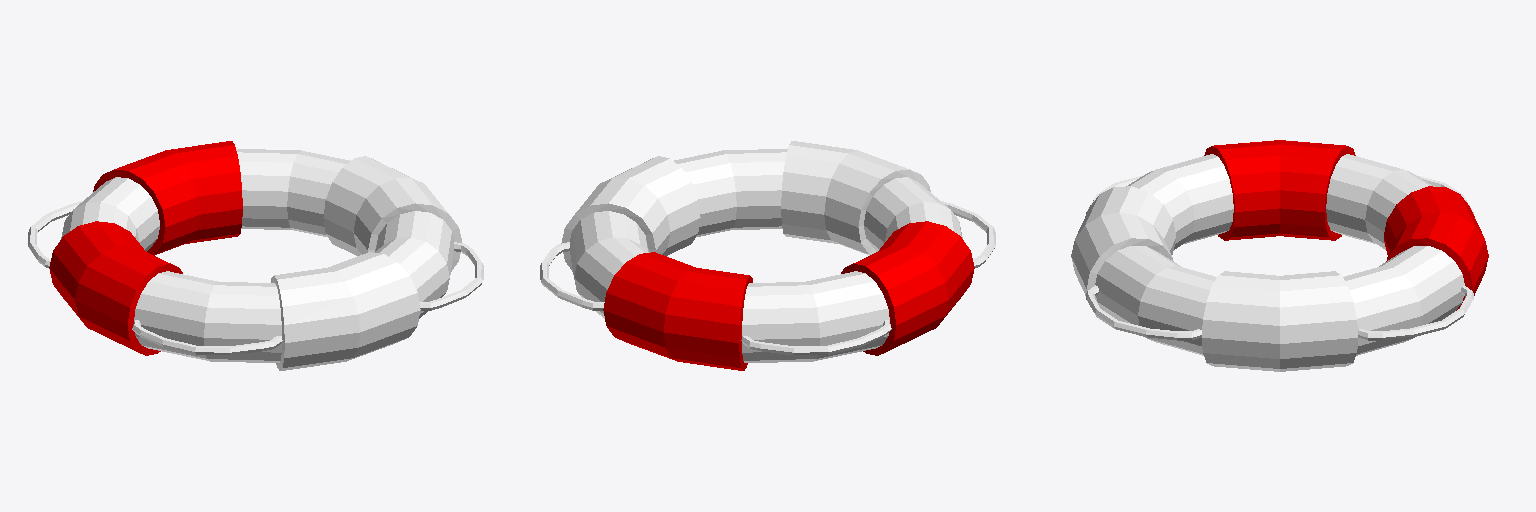
The picture shows the model from 3 angles: view 1: azimuth 30°, elevation 25°; view 2: azimuth 150°, elevation 25°; view 3: azimuth 270°, elevation 25°; orthographic projection.
Visible parts, largest first — view 1: Torus; view 2: Torus; view 3: Torus.
Part boxes in pixels (x1,y1,x2,y2): Torus: (28, 141, 483, 370); Torus: (540, 141, 995, 370); Torus: (1071, 140, 1488, 371).
Bounding box in the file's own units: 1 × 0.2307 × 1.
1 materials, 1 textured.